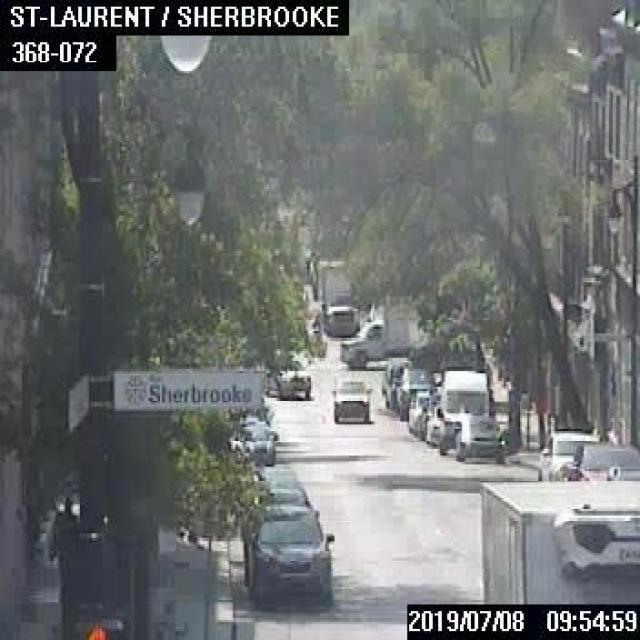pedestrian: (48, 494, 84, 596)
vehicle: (478, 478, 638, 602), (241, 504, 333, 604), (337, 308, 412, 367), (438, 368, 488, 453), (317, 256, 359, 334), (536, 429, 594, 479), (566, 442, 638, 479), (391, 365, 435, 419), (453, 412, 500, 461), (232, 424, 276, 466), (331, 376, 371, 422), (264, 356, 309, 396), (249, 485, 311, 511), (379, 358, 411, 406), (407, 388, 431, 436), (426, 401, 440, 444)
